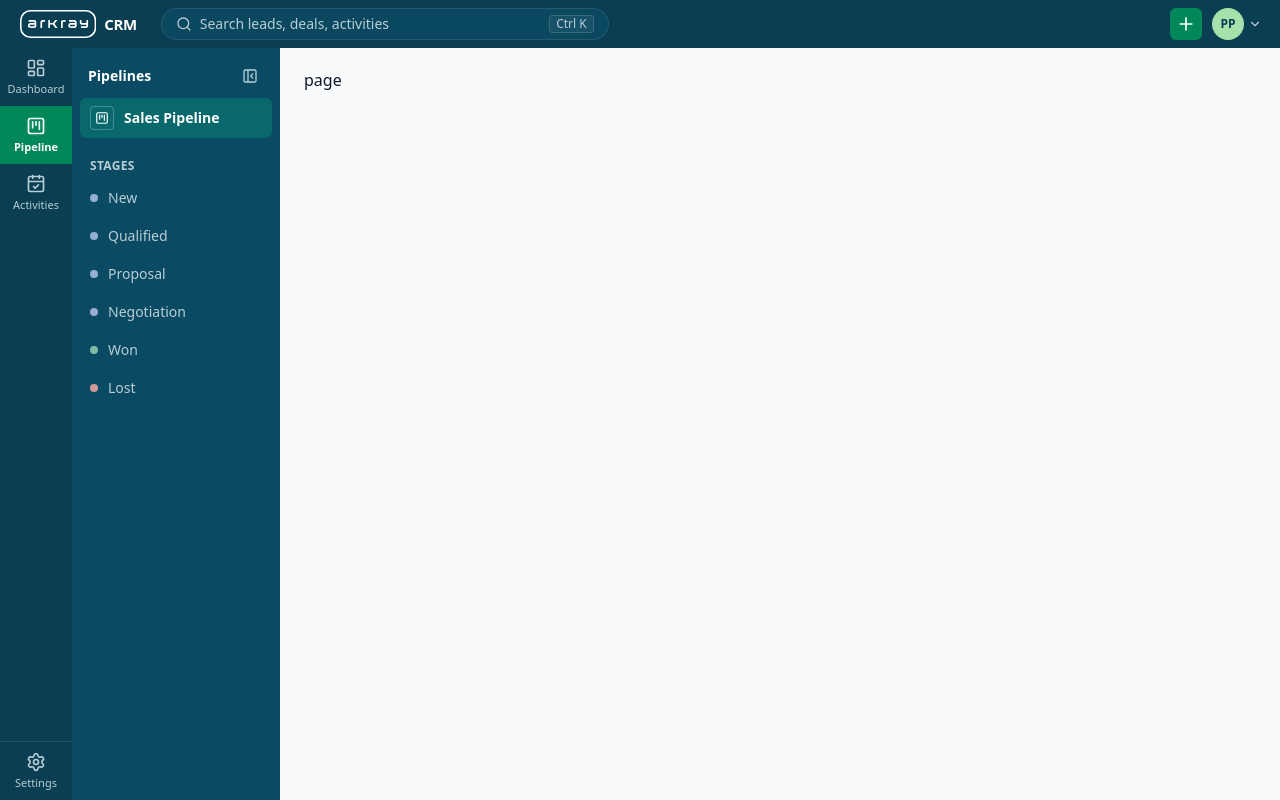
the pipelines panel › collapses to a strip and opens again
Click the button named "Hide pipelines" at (250, 76), box [236,62,264,90]
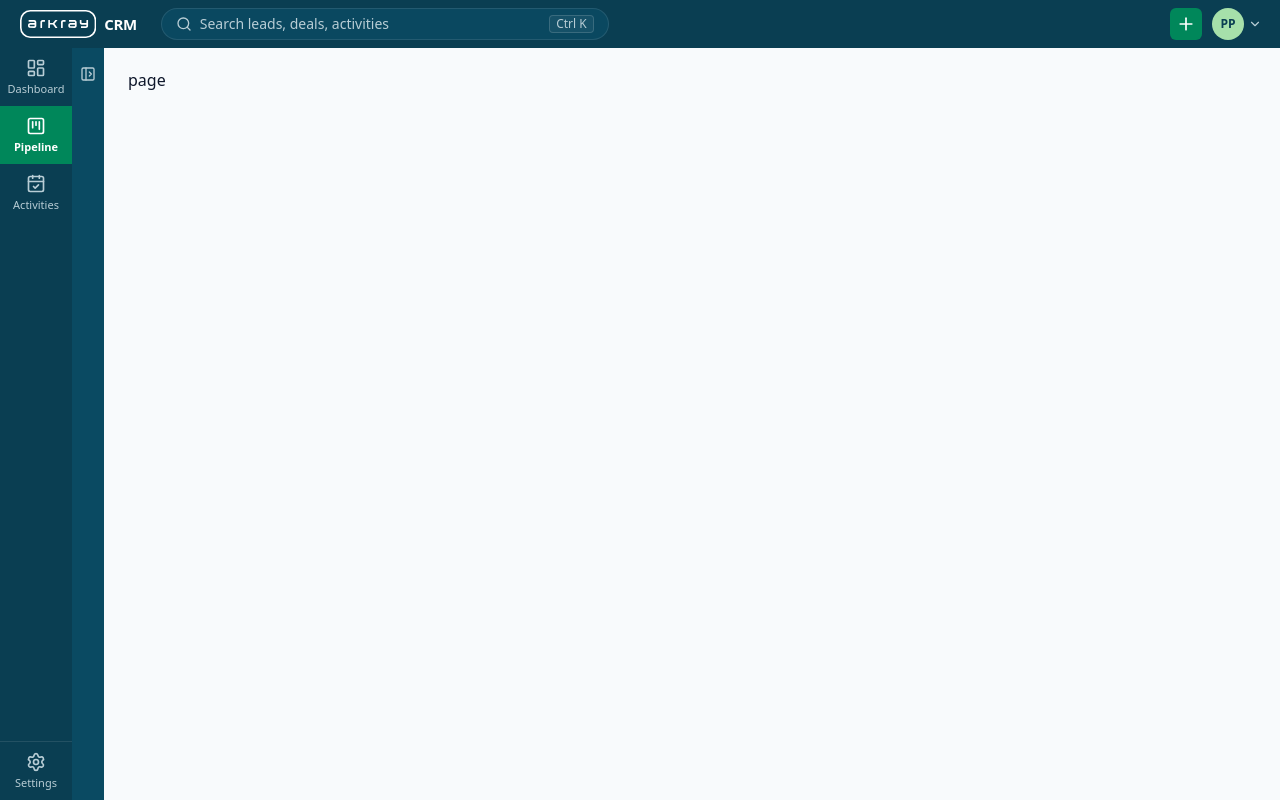
Expected: the heading "Pipelines" is gone
Click the button named "Show pipelines" at (88, 74), box [74,60,102,88]
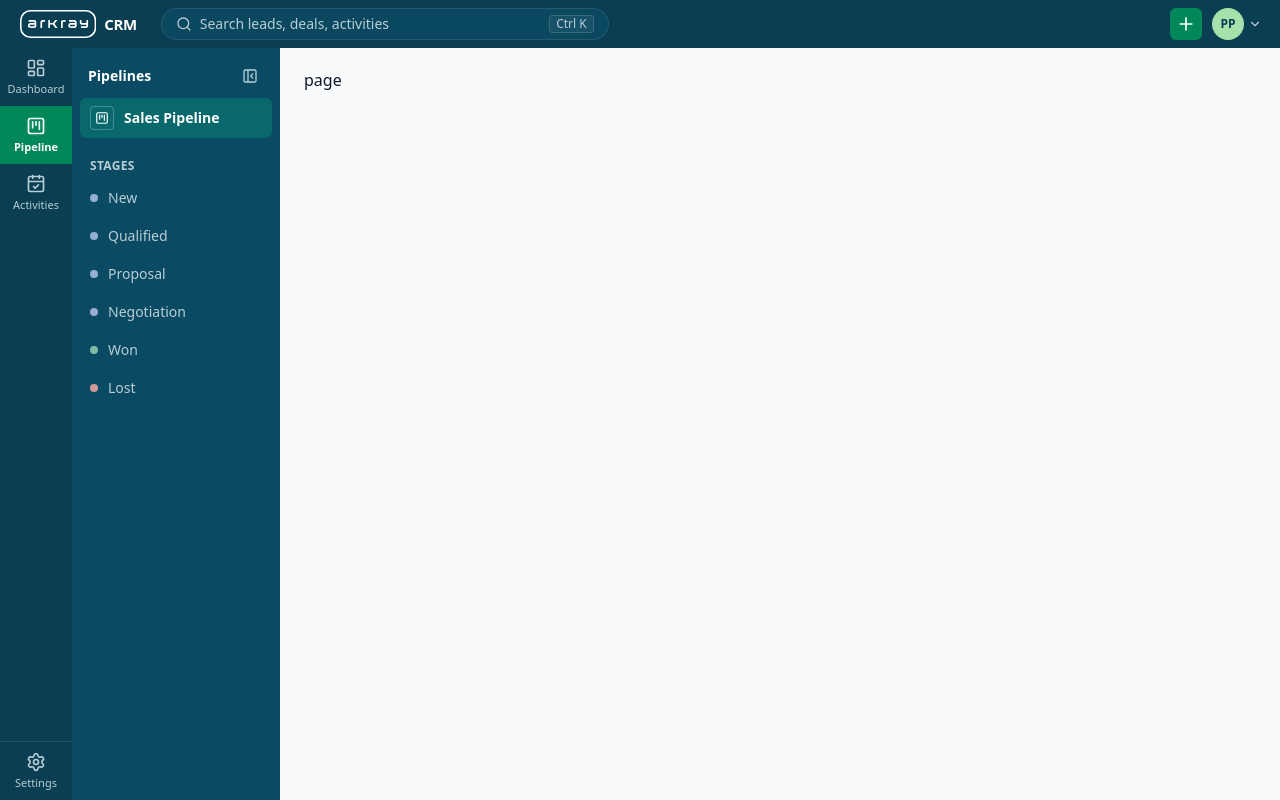
Expected: the element "Pipelines" is shown, [72,48,280,799]
